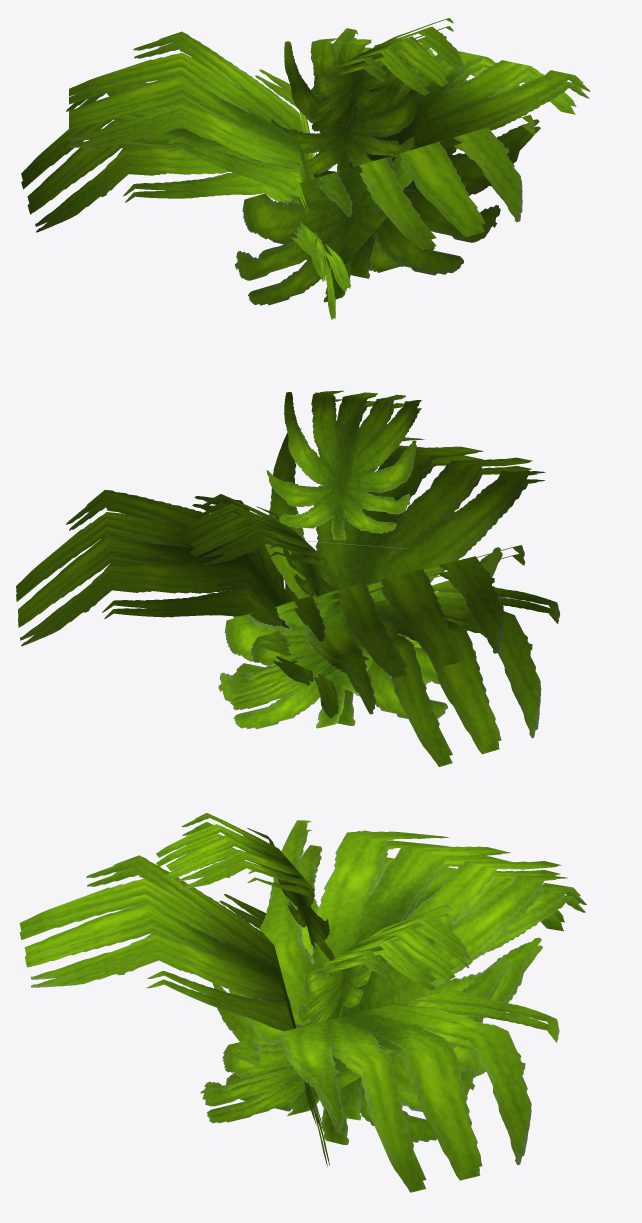
File: Bush_Jungley.FBX
The picture shows the model from 3 angles, top to bottom: view 1: azimuth 30°, elevation 25°; view 2: azimuth 150°, elevation 25°; view 3: azimuth 270°, elevation 25°; orthographic projection. The views are drawn at different scales.
Visible parts, largest first — view 1: Bush_Jungley; view 2: Bush_Jungley; view 3: Bush_Jungley.
Boxes of the visible parts, x1,y1,x2,y2 form: Bush_Jungley: (21, 18, 590, 319); Bush_Jungley: (16, 390, 560, 766); Bush_Jungley: (19, 813, 586, 1192).
Bounding box in the file's own units: 831 × 381 × 677.
